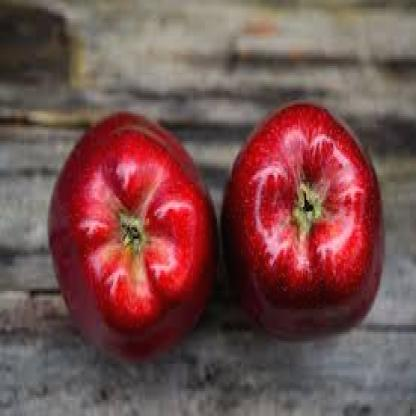apple: (47, 114, 217, 360), (228, 98, 385, 341)
